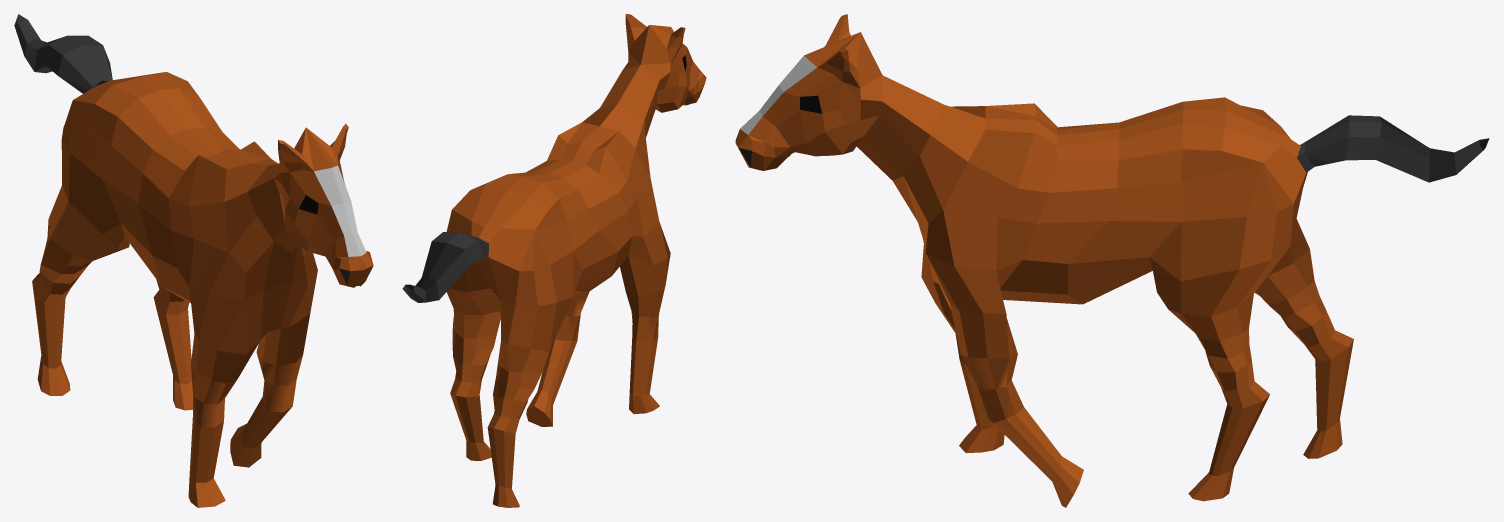
Rendered from Horse_1.FBX.
The picture shows the model from 3 angles, left to right: view 1: azimuth 30°, elevation 25°; view 2: azimuth 150°, elevation 25°; view 3: azimuth 270°, elevation 25°; orthographic projection. The views are drawn at different scales.
Visible parts, largest first — view 1: Horse_1; view 2: Horse_1; view 3: Horse_1.
Part boxes in pixels (box(x1,y1,x2,y2)): Horse_1: box(14, 14, 373, 507); Horse_1: box(402, 14, 706, 507); Horse_1: box(735, 14, 1489, 507).
Bounding box in the file's own units: 0.699 × 2.01 × 3.02.
1 material, 1 textured.
